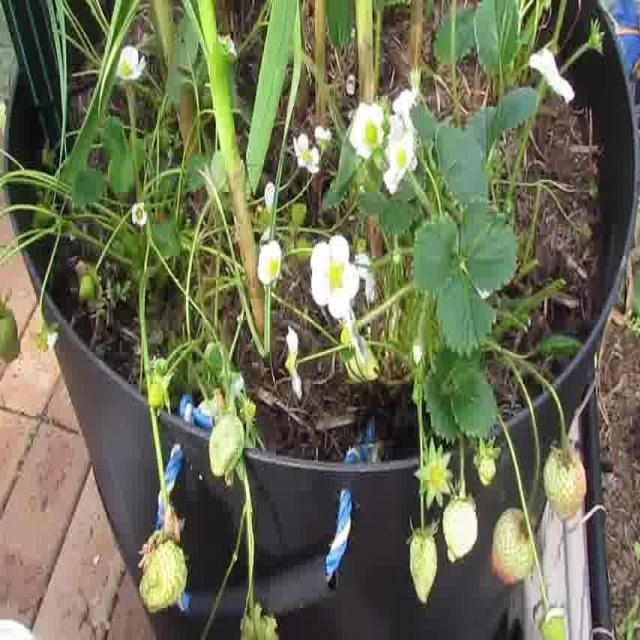Fruta sana: (138, 539, 188, 614), (492, 508, 535, 586), (543, 446, 587, 522), (208, 414, 244, 477), (407, 533, 437, 605), (0, 308, 21, 362), (539, 610, 566, 640), (476, 455, 496, 486), (79, 275, 98, 299), (148, 384, 164, 406), (292, 203, 307, 224), (298, 240, 312, 262)
Moho gris: (442, 495, 478, 557), (240, 620, 280, 640)
